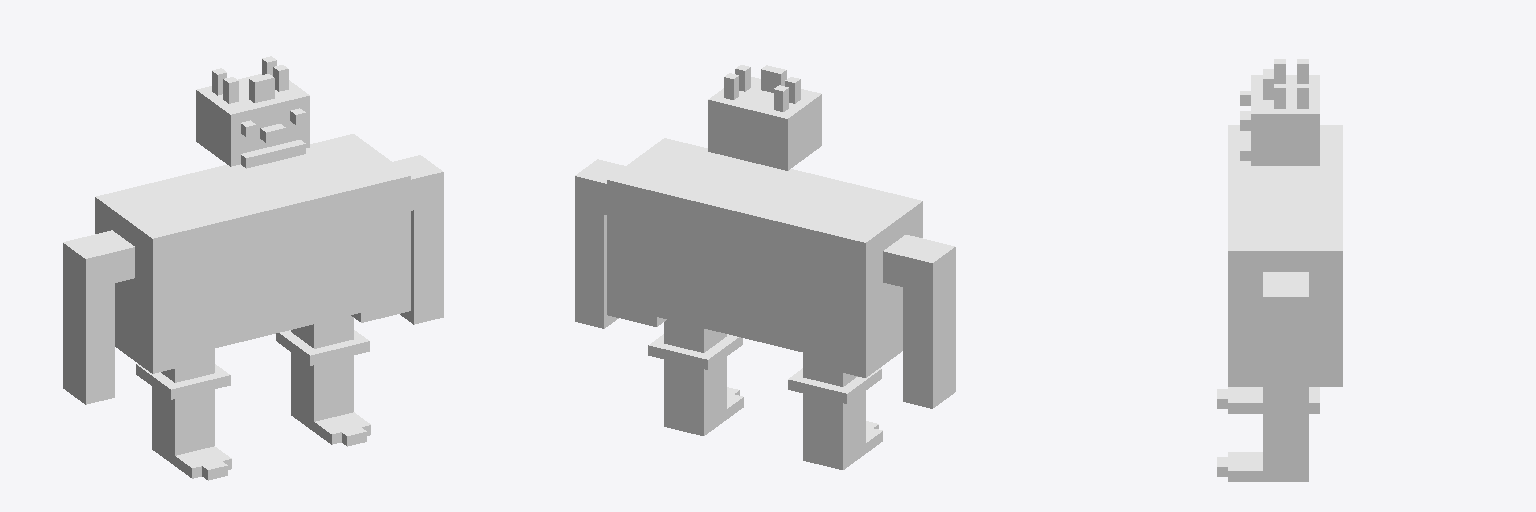
File: Mermaid.obj
3 renders of one model, left to right at view 1: azimuth 30°, elevation 25°; view 2: azimuth 150°, elevation 25°; view 3: azimuth 270°, elevation 25°, orthographic.
Parts seen in each view (by area): view 1: object 1; view 2: object 1; view 3: object 1.
Boxes of the visible parts, <box> form: object 1: <box>63,56,443,480</box>; object 1: <box>575,65,955,469</box>; object 1: <box>1217,59,1342,481</box>.
Size of the model in its own units: 3.6 by 3.5 by 1.1.